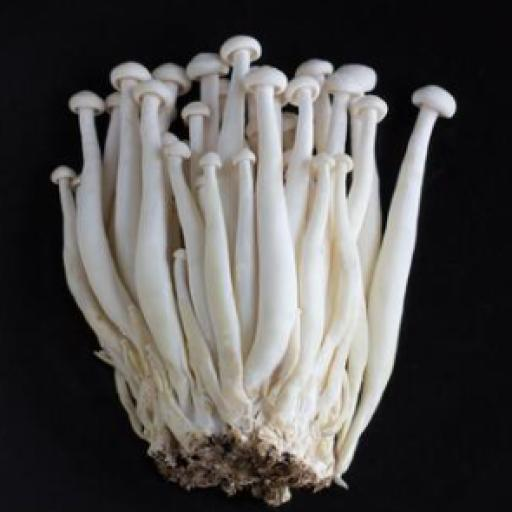Enoki Mushroom: (36, 33, 482, 507)
